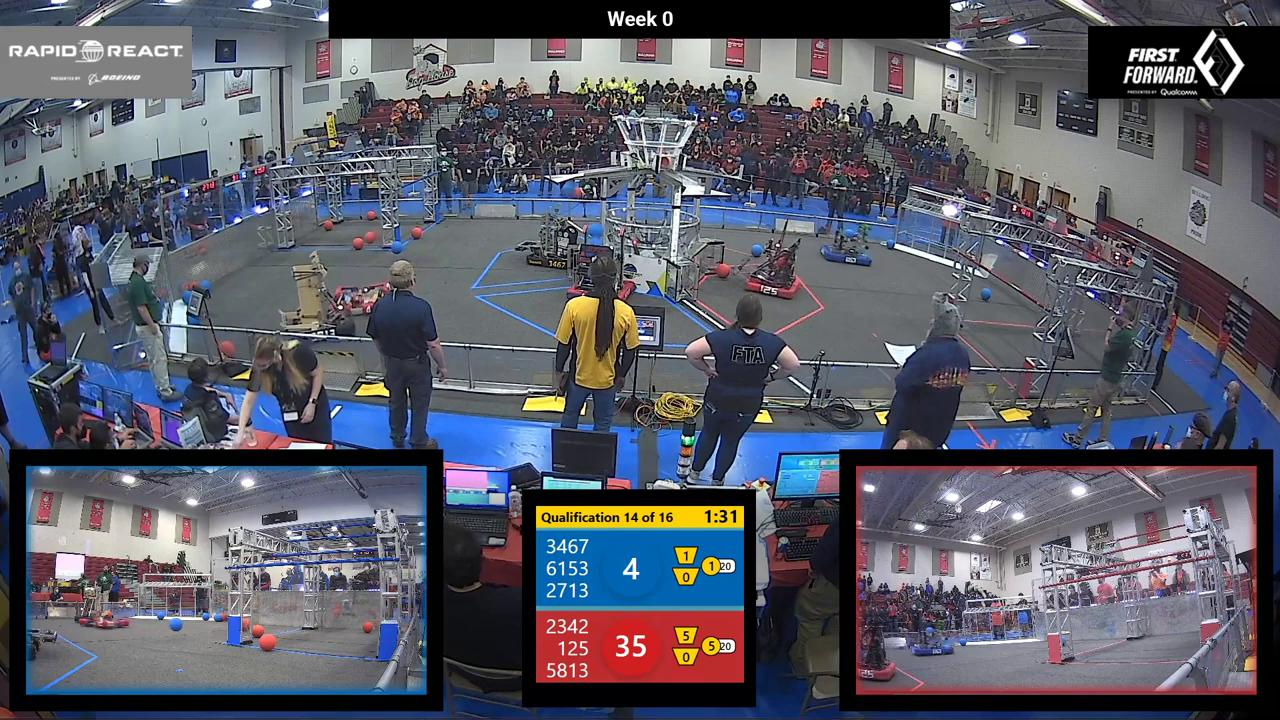robot: (276, 250, 357, 345), (566, 235, 637, 302), (525, 203, 590, 272), (745, 235, 801, 300), (820, 222, 872, 268), (80, 582, 129, 629), (330, 281, 391, 316), (858, 626, 896, 682), (74, 586, 113, 623), (910, 630, 954, 656)
